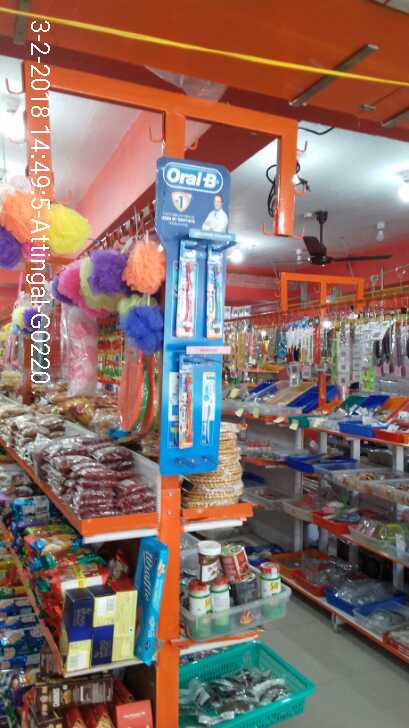oralb: (174, 239, 197, 335), (176, 352, 196, 447), (206, 241, 225, 338)
